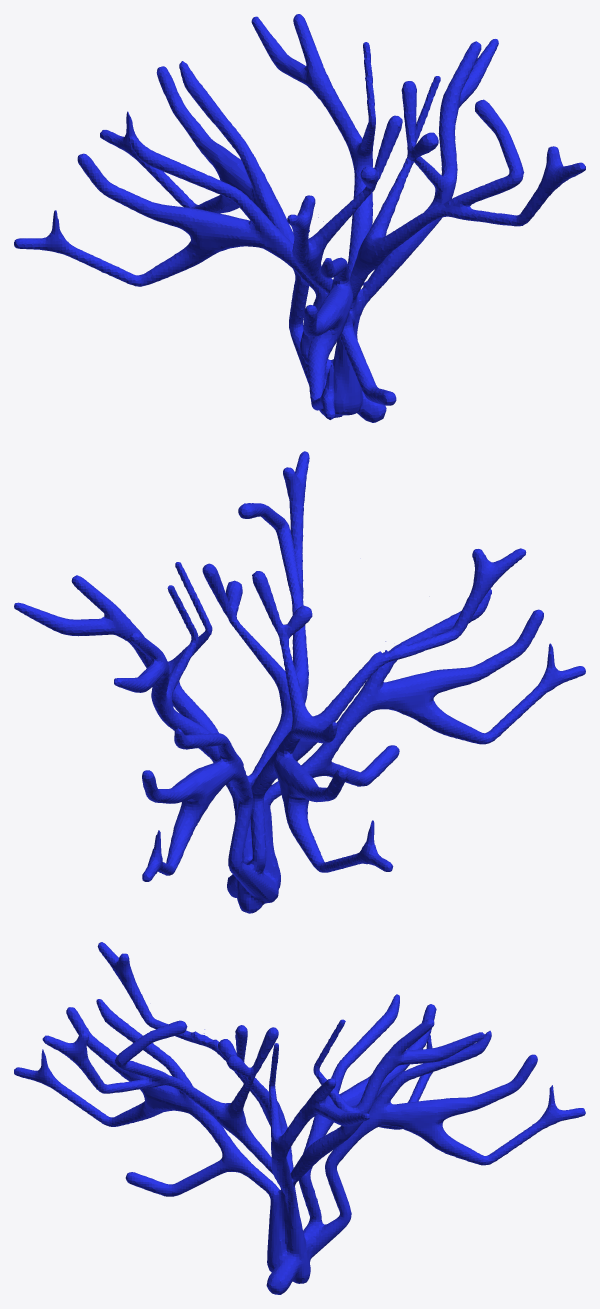
3 views of the same model, one above another, from view 1: azimuth 30°, elevation 25°; view 2: azimuth 150°, elevation 25°; view 3: azimuth 270°, elevation 25° (orthographic). The views are drawn at different scales.
Parts seen in each view (by area): view 1: Plane; view 2: Plane; view 3: Plane.
Part boxes in pixels (box(x1,y1,x2,y2)): Plane: box(14, 14, 585, 422); Plane: box(14, 451, 585, 913); Plane: box(14, 942, 585, 1294).
Bounding box in the file's own units: 718 × 552 × 973.
